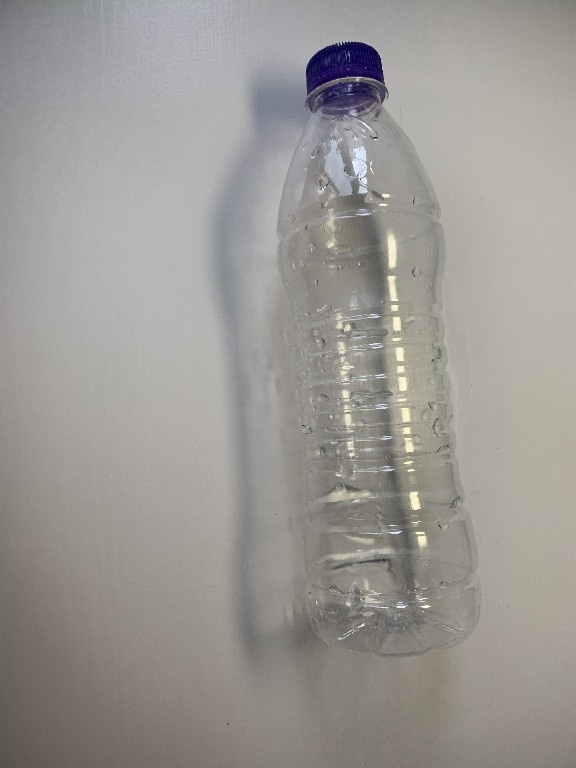bottle: (273, 42, 493, 661)
